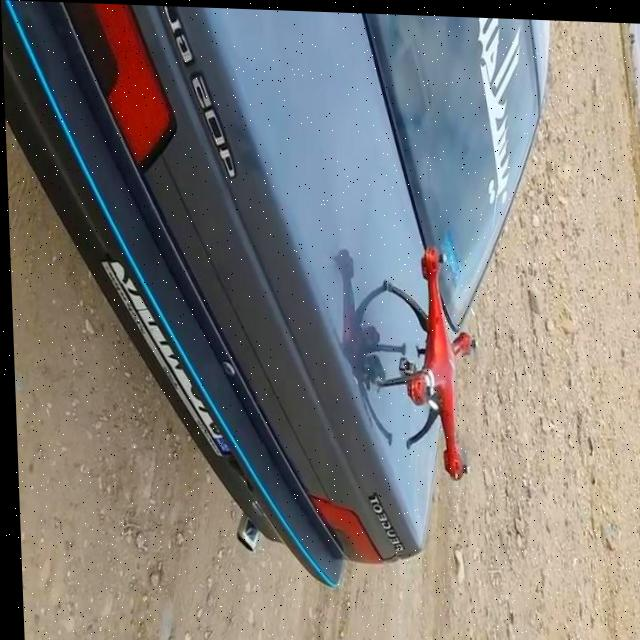drone: (362, 224, 482, 490)
